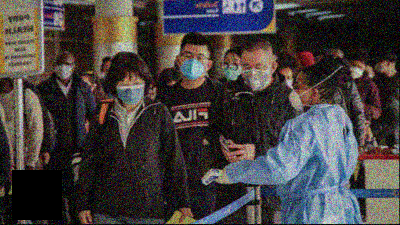with_mask: (178, 49, 207, 82), (241, 61, 271, 91), (115, 77, 145, 107), (288, 80, 310, 110), (221, 57, 241, 81), (53, 60, 72, 80), (348, 63, 364, 79)
